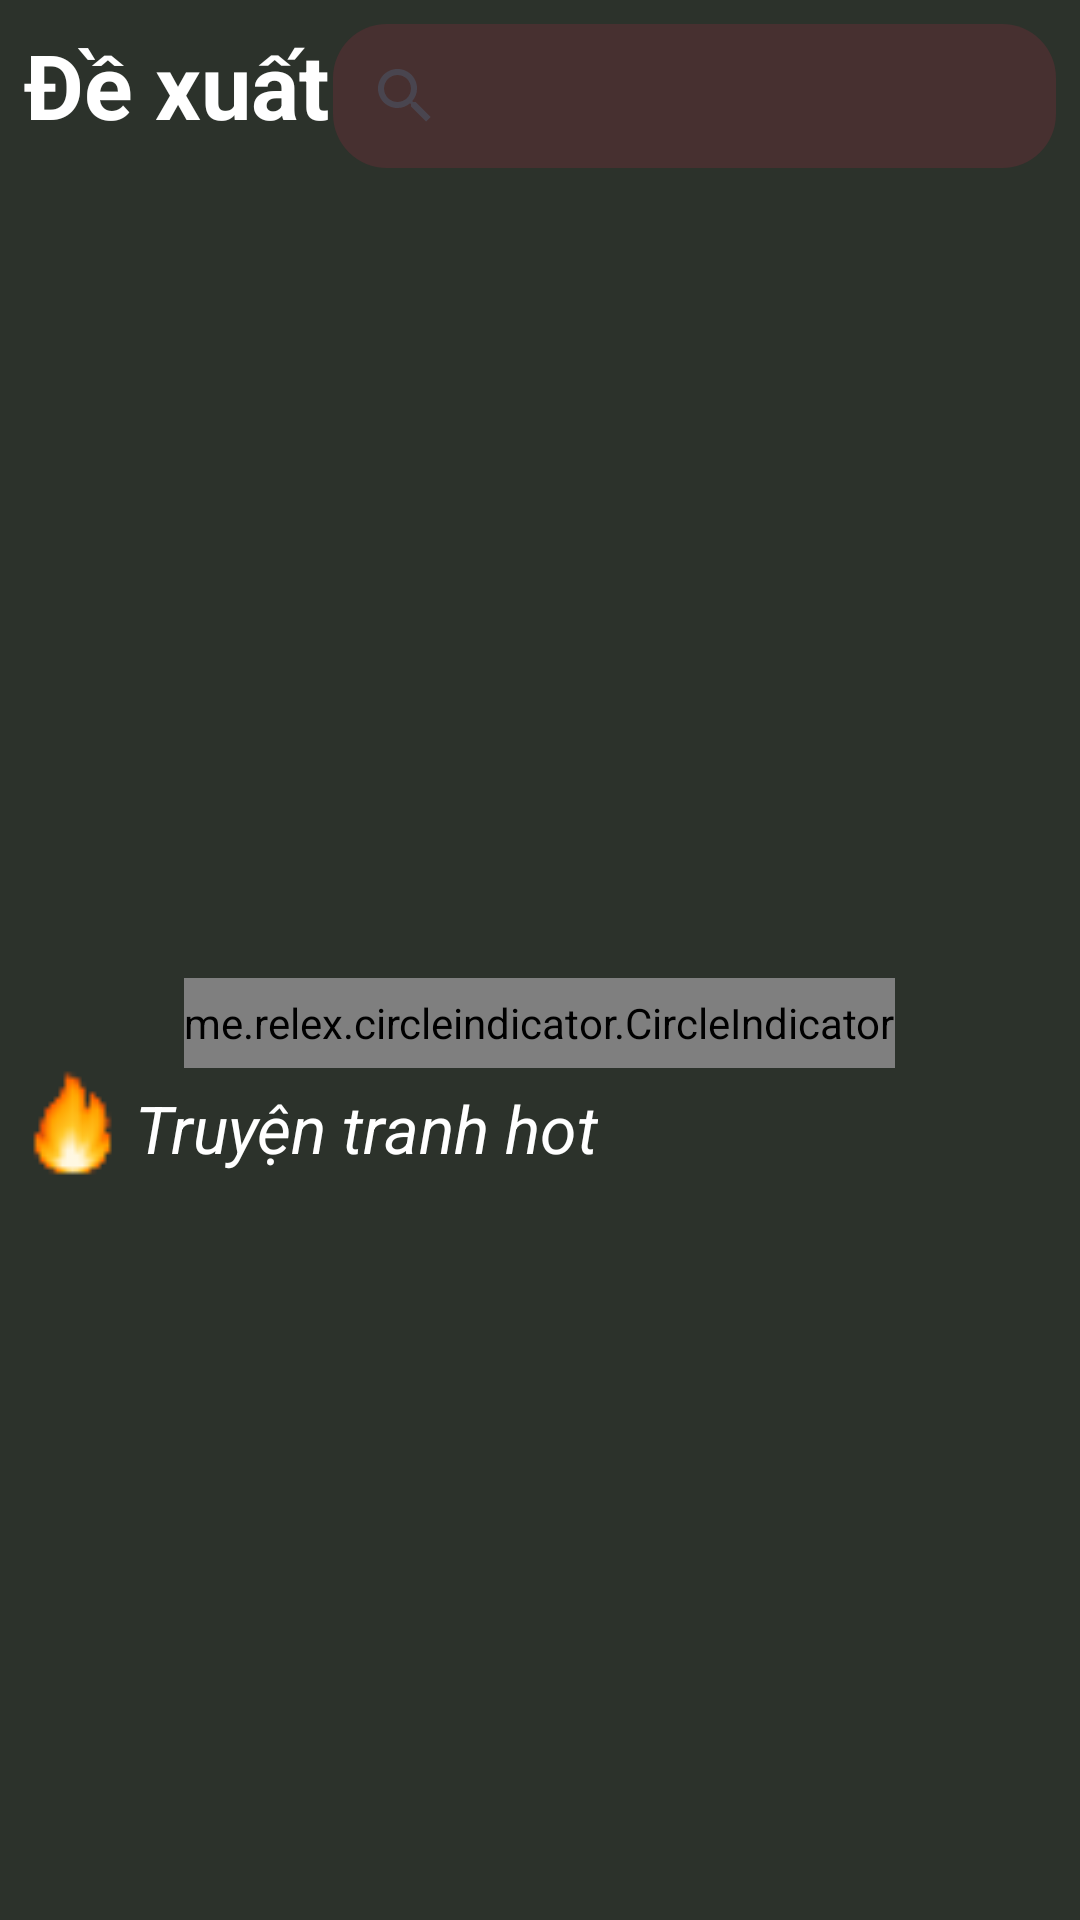

Named icons in this screenshot (1080x1920) and their centers, (x=x, y=y):
fire: (x=72, y=1123)
